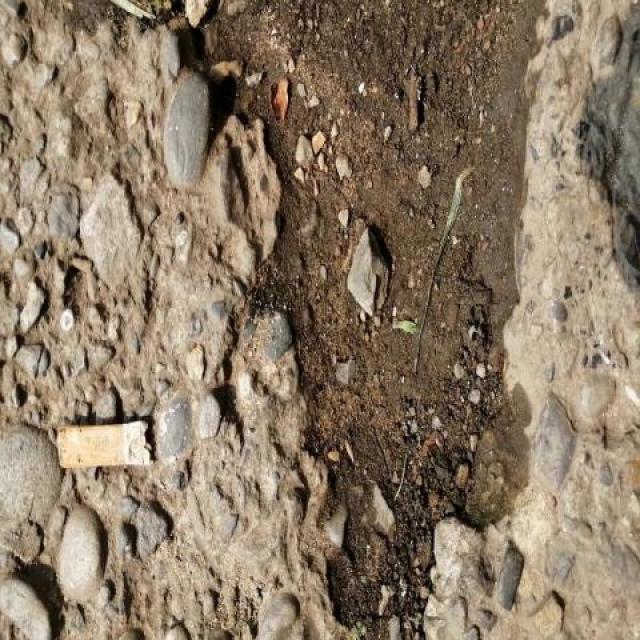non-organic waste: (54, 415, 161, 474)
